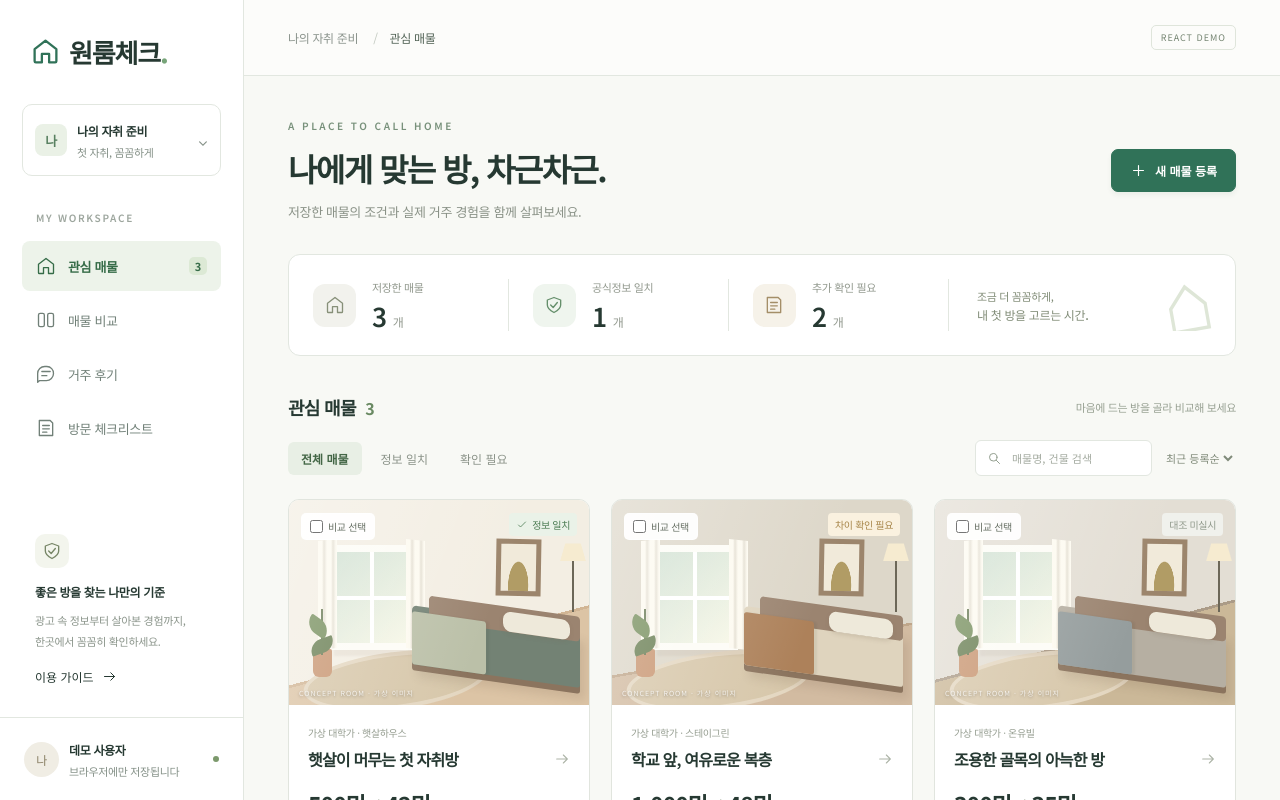
review creates updated aggregate; deletion restores existing samples
Click the link "거주 후기" at (77, 374), box [36,364,118,384]
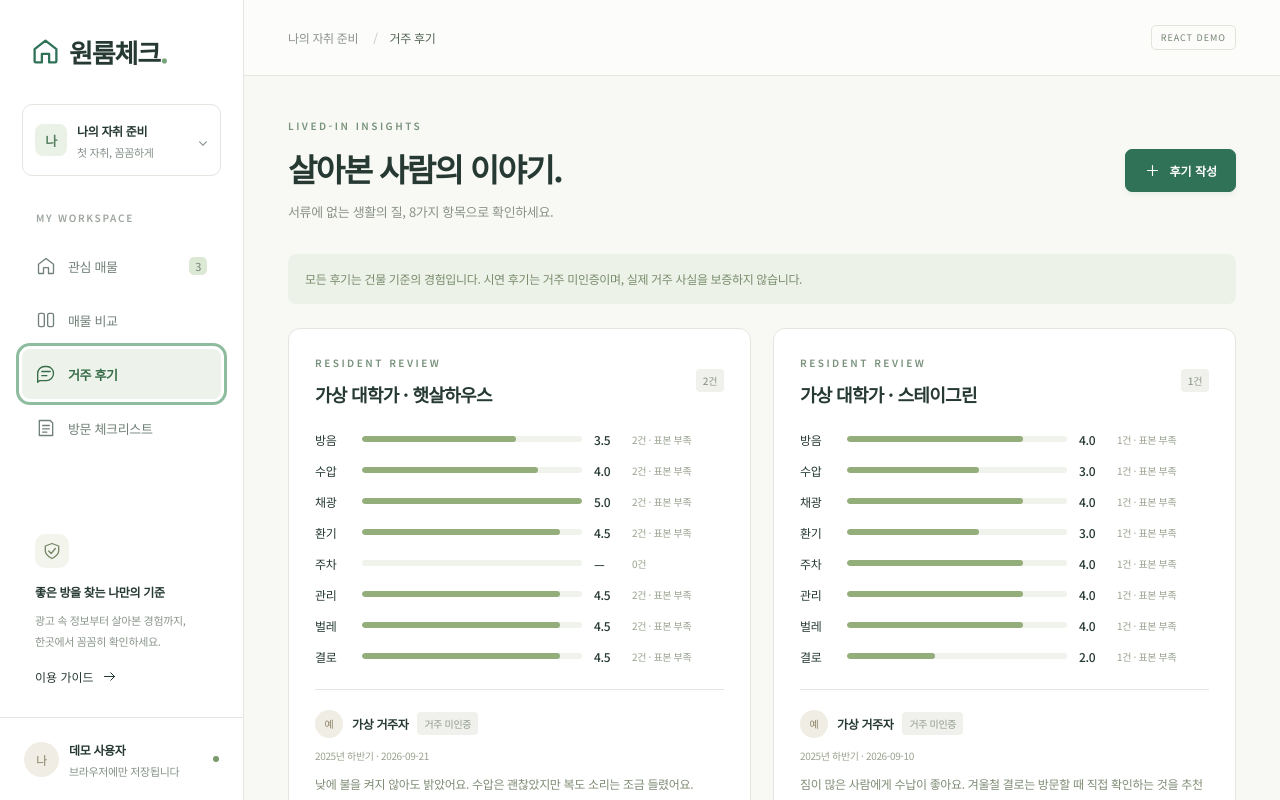
Click the button "후기 작성" at (1181, 170), box [1126,149,1236,192]
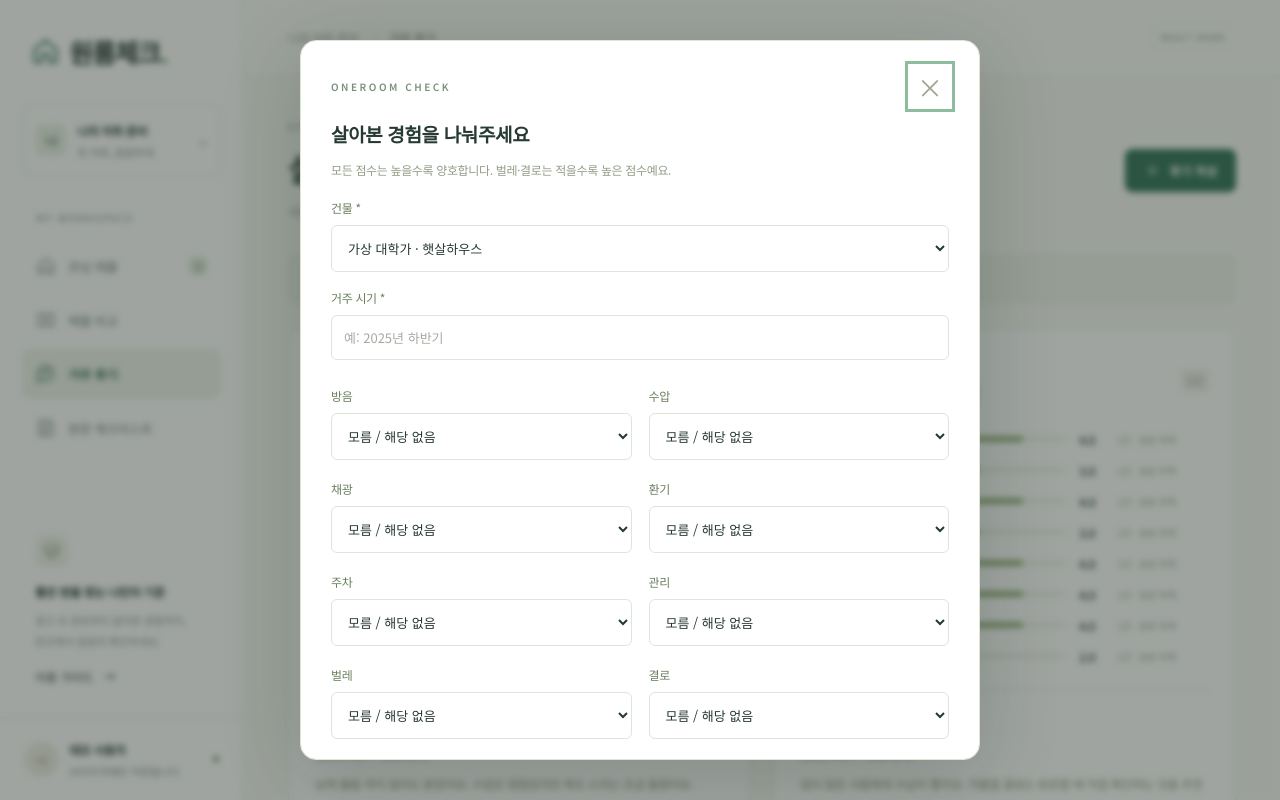
Type "2026년 상반기" into the field labelled "거주 시기 *" at (640, 337), box [331,315,949,360]
Select "5점 · 매우 양호" in the dropdown labelled "방음" at (481, 436), box [331,413,632,460]
(page scrolled)
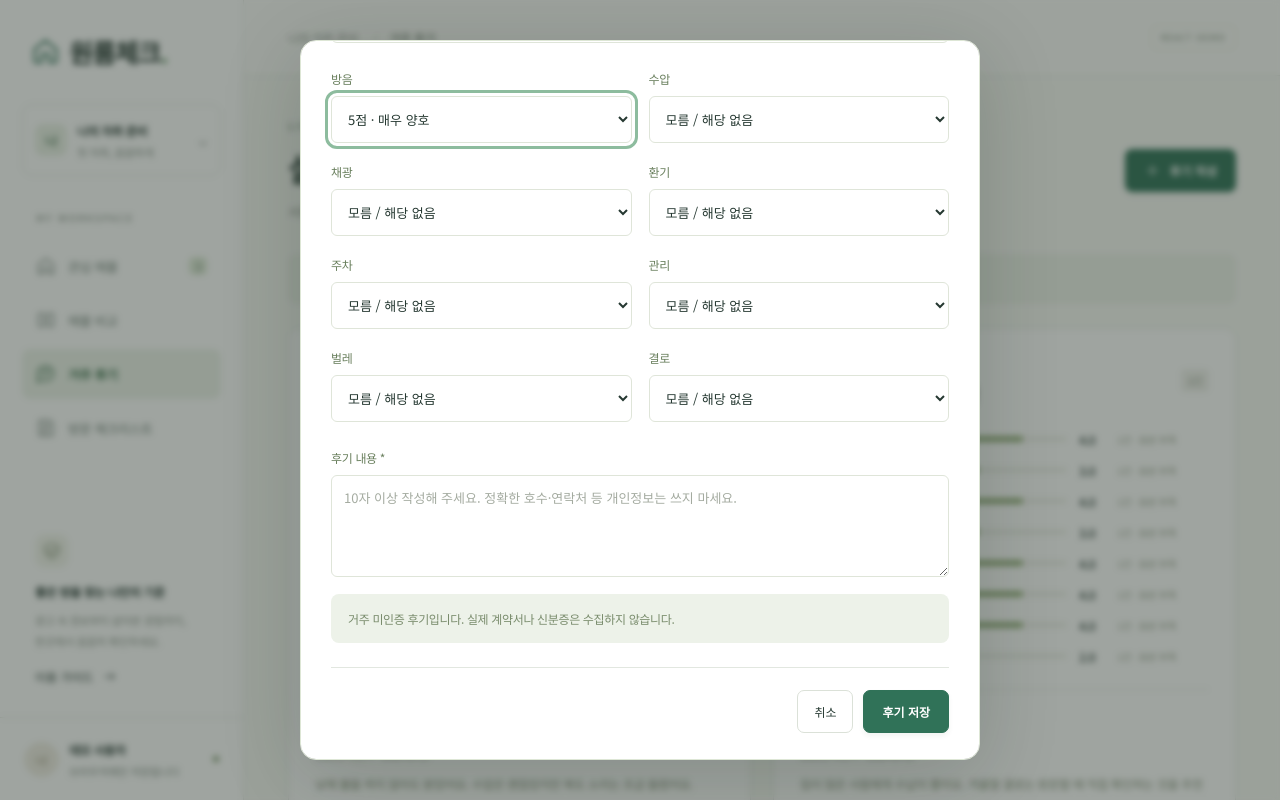
Type "리액트 폼으로 작성하는 테스트 후기입니다." into the text box labelled "후기 내용 *" at (640, 526), box [331,475,949,577]
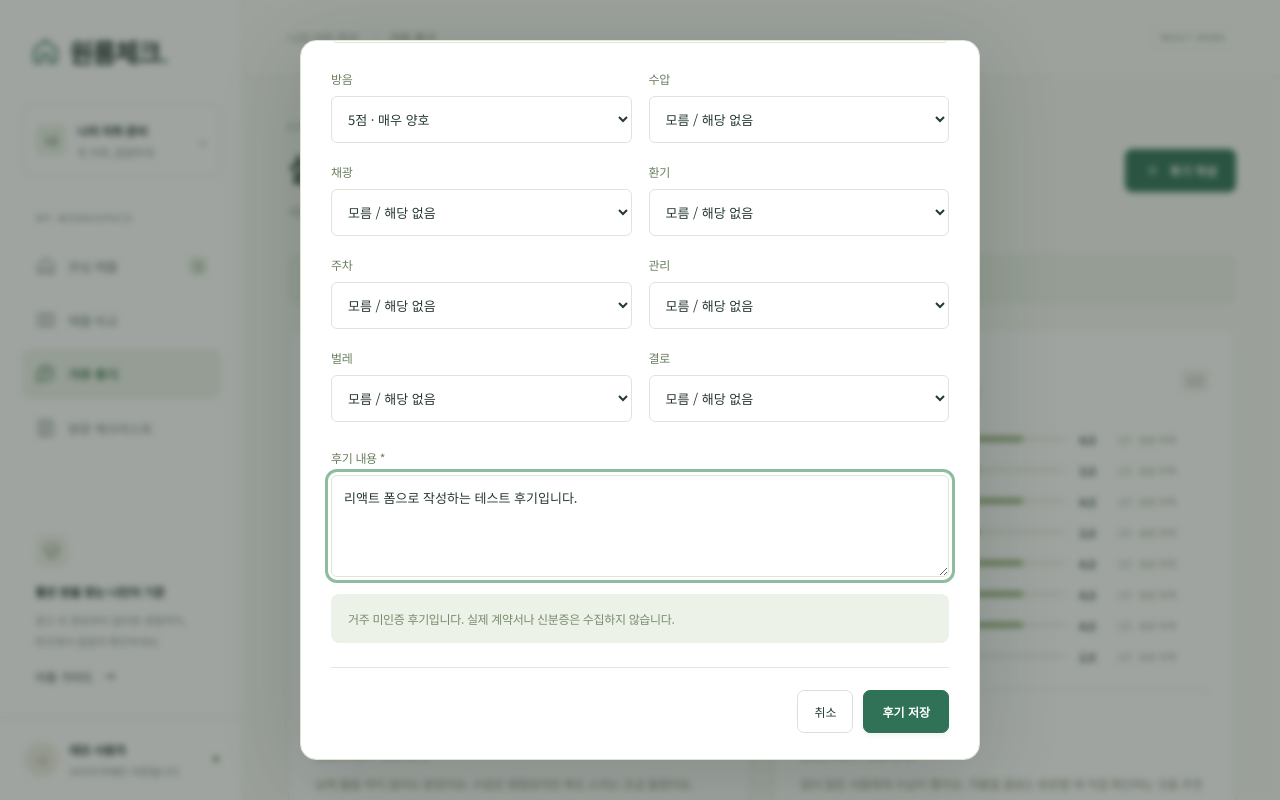
Click the button "후기 저장" at (906, 712), box [864,690,949,733]
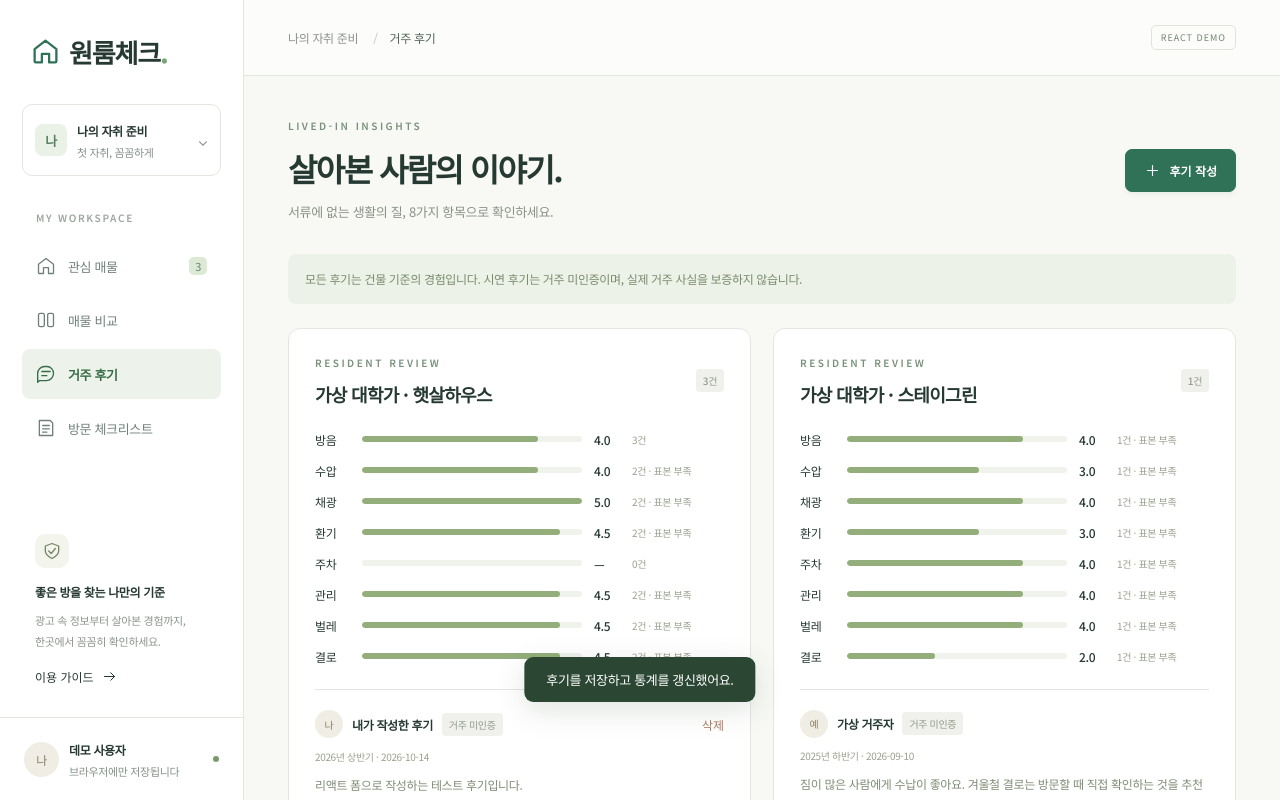
Now the text "리액트 폼으로 작성하는 테스트 후기입니다." is shown, box [315,776,522,793]
Now the text "3건" in the row of "가상 대학가 · 햇살하우스" is shown, box [696,369,724,392]
Click the button "삭제" at (713, 724), box [702,710,724,739]
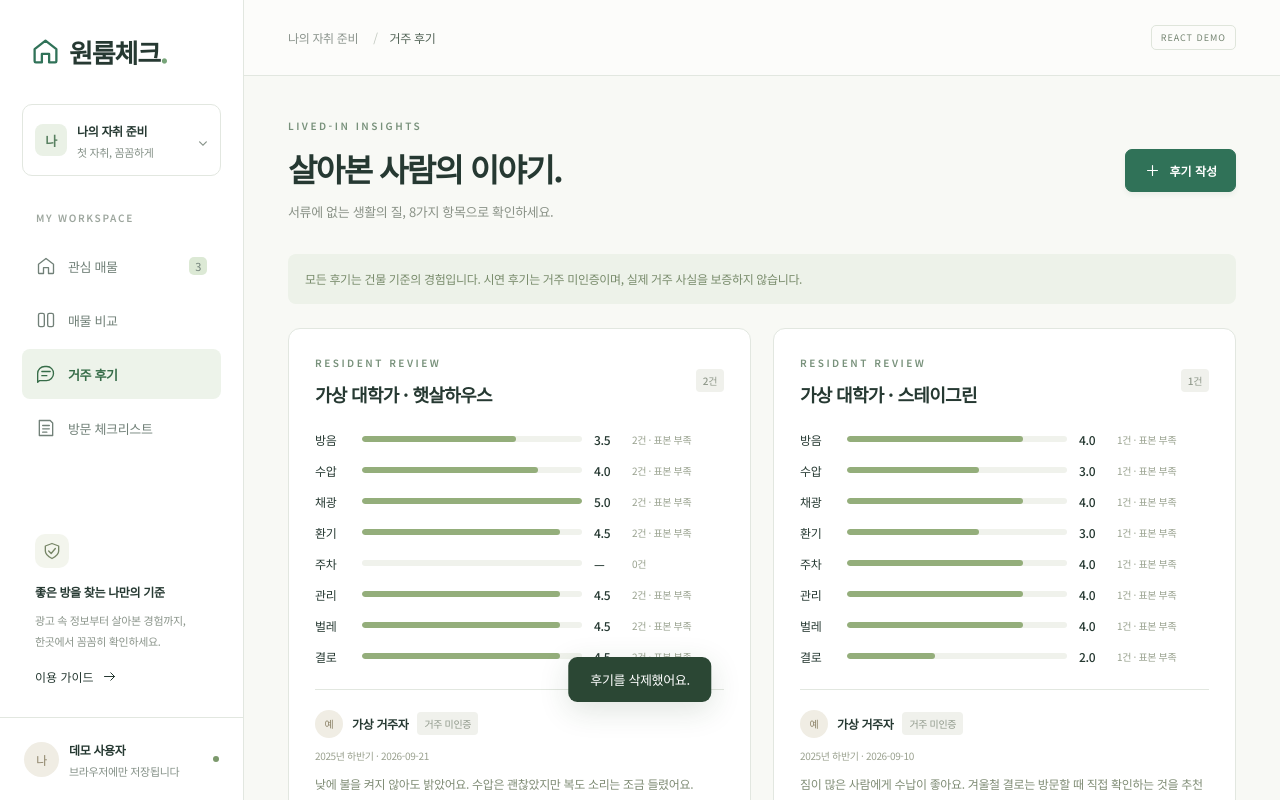
Now the text "리액트 폼으로 작성하는 테스트 후기입니다." is gone
